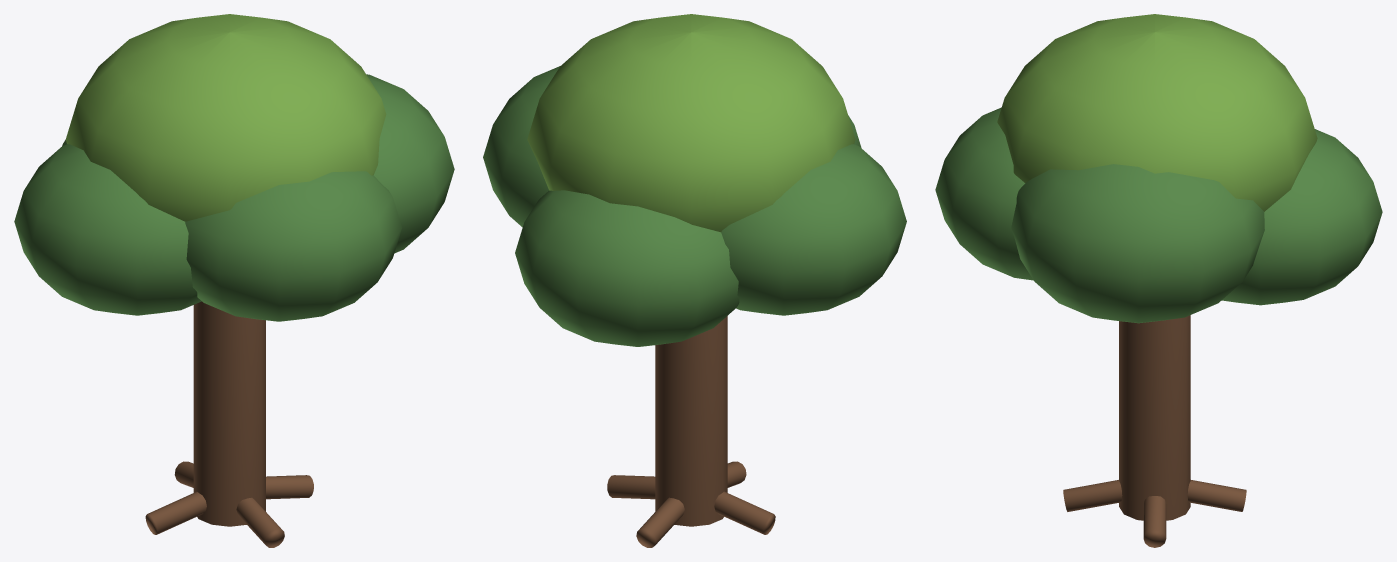
The model's file is broadleaf_tree.glb.
The picture shows the model from 3 angles, left to right: view 1: azimuth 30°, elevation 25°; view 2: azimuth 150°, elevation 25°; view 3: azimuth 270°, elevation 25°; orthographic projection.
Visible parts, largest first — view 1: canopy_0, canopy_4, canopy_1, trunk, canopy_2, root (×3); view 2: canopy_0, canopy_3, canopy_1, trunk, canopy_2, root (×3); view 3: canopy_0, canopy_2, canopy_3, trunk, canopy_4, root (×3).
Boxes of the visible parts, x1=… form: canopy_0: x1=65, y1=14, x2=386, y2=221; canopy_4: x1=185, y1=171, x2=402, y2=321; canopy_1: x1=14, y1=144, x2=201, y2=315; trunk: x1=193, y1=301, x2=265, y2=526; canopy_2: x1=366, y1=74, x2=454, y2=253; root (×3): x1=145, y1=475, x2=313, y2=547; canopy_0: x1=527, y1=14, x2=855, y2=232; canopy_3: x1=515, y1=190, x2=739, y2=346; canopy_1: x1=721, y1=144, x2=906, y2=315; trunk: x1=655, y1=316, x2=727, y2=526; canopy_2: x1=483, y1=66, x2=559, y2=227; root (×3): x1=607, y1=475, x2=775, y2=547; canopy_0: x1=997, y1=14, x2=1317, y2=211; canopy_2: x1=1011, y1=164, x2=1264, y2=323; canopy_3: x1=1222, y1=129, x2=1382, y2=305; trunk: x1=1119, y1=315, x2=1190, y2=520; canopy_4: x1=935, y1=107, x2=1033, y2=280; root (×3): x1=1063, y1=480, x2=1246, y2=547.
Bounding box in the file's own units: 2.8 × 3.25 × 2.75.
